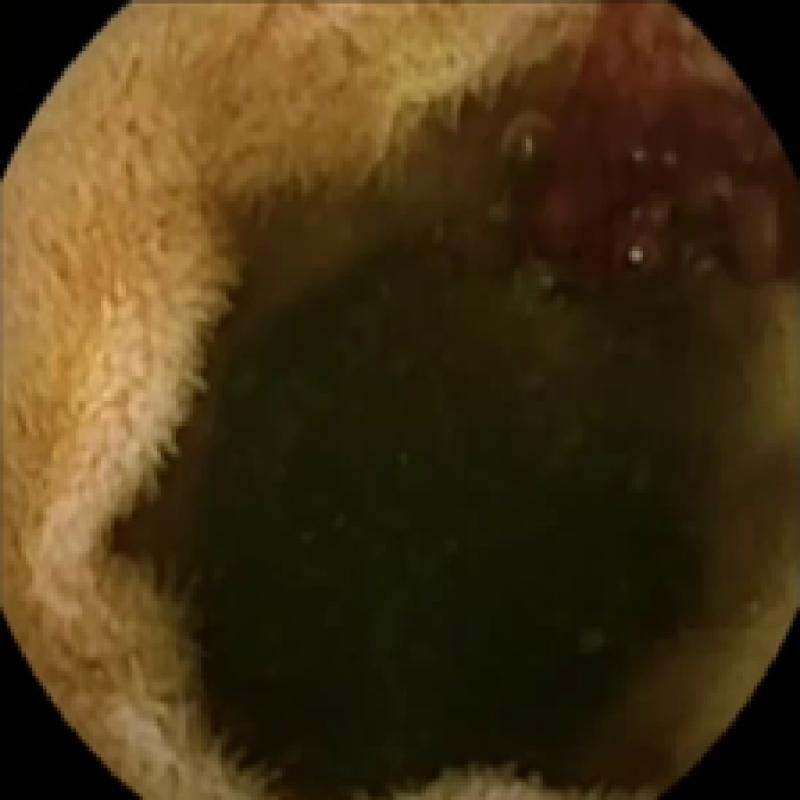bleeding: (525, 3, 800, 278)
